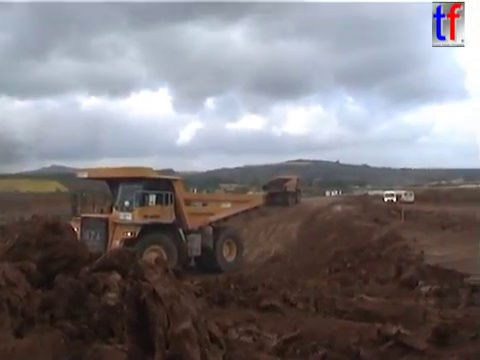truck: (63, 164, 267, 284), (260, 173, 303, 208)
